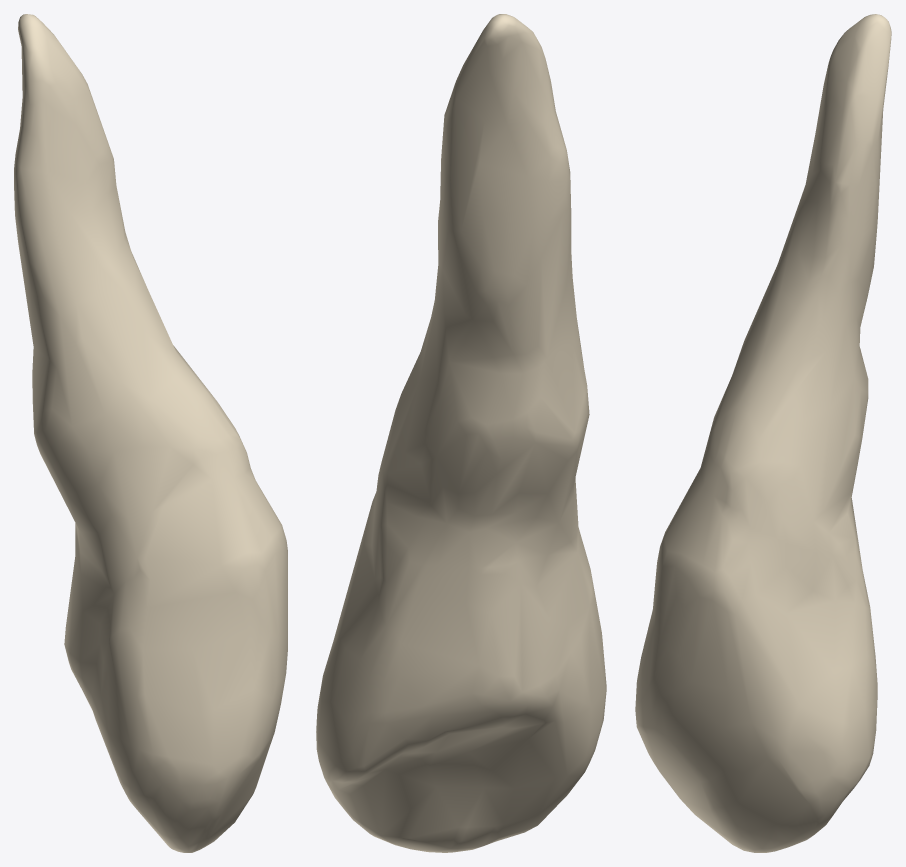
Rendered from upper-canine-l.glb.
The picture shows the model from 3 angles, left to right: view 1: azimuth 30°, elevation 25°; view 2: azimuth 150°, elevation 25°; view 3: azimuth 270°, elevation 25°; orthographic projection. The views are drawn at different scales.
Visible parts, largest first — view 1: Upper canine.l; view 2: Upper canine.l; view 3: Upper canine.l.
Part boxes in pixels (box(x1,y1,x2,y2)): Upper canine.l: box(14, 14, 287, 852); Upper canine.l: box(316, 14, 606, 852); Upper canine.l: box(635, 14, 891, 852).
Bounding box in the file's own units: 0.00906 × 0.0306 × 0.0091.
